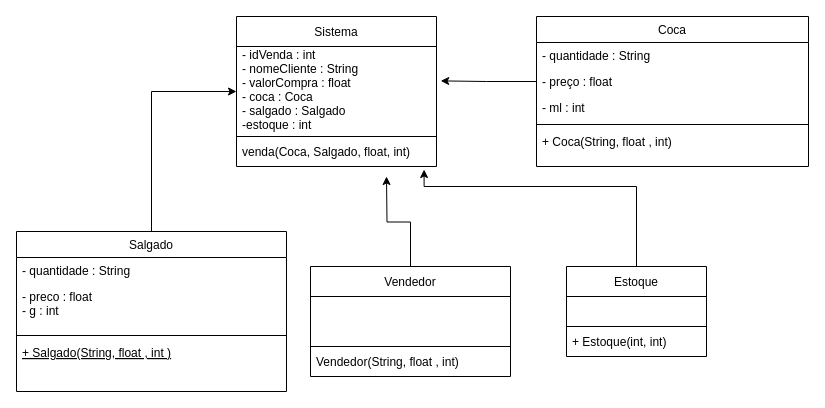
This 825x408 diagram has some shape labels left out. The shapes that lost their labels are listed below. From the top down, each one's centre as x and y in pixels, then its label:
the point at 410,321: - nome : String - salario : float - cargaHoraria : int
the point at 636,311: - qtdCoca : int - qtdSalgado : int
